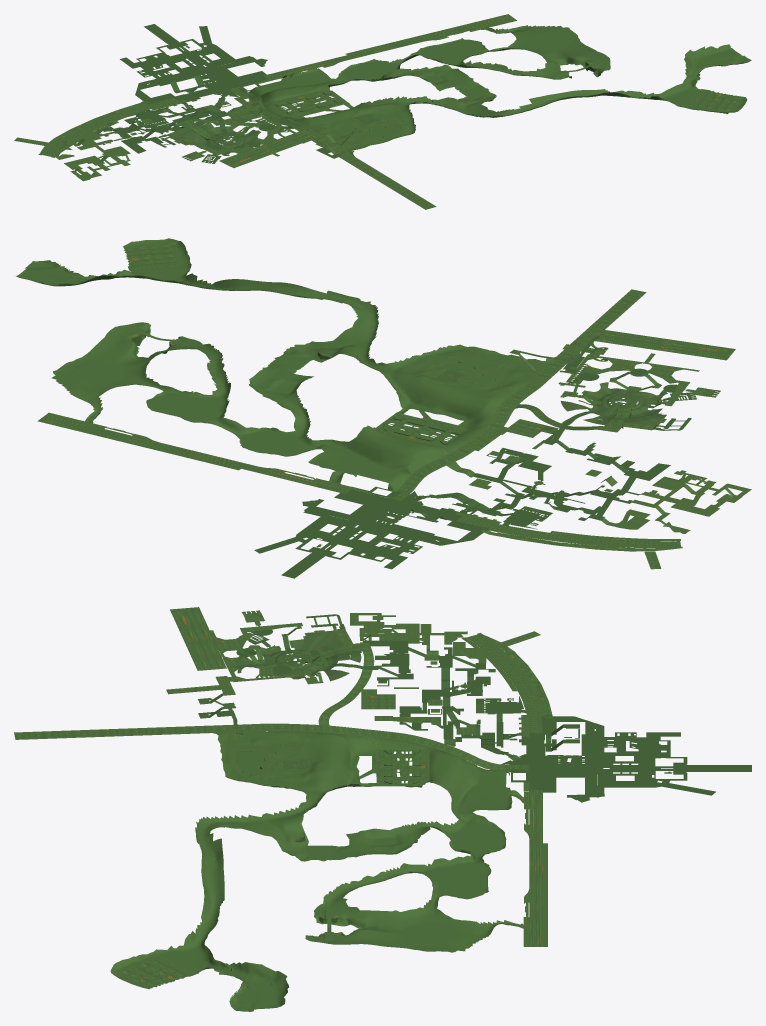
The model's file is sc_xcb_wg01_um.fbx.
3 views of the same model, one above another, from view 1: azimuth 30°, elevation 25°; view 2: azimuth 150°, elevation 25°; view 3: azimuth 270°, elevation 25° (orthographic). The views are drawn at different scales.
Parts seen in each view (by area): view 1: sc_xcb_wg002, sc_xcb_wg001, sc_xcb_wg_zt, sc_xcb_wg_tcc01, sc_xcb_wg_xxq01, sc_xcb_wg_ymc02, sc_xcb_wg005; view 2: sc_xcb_wg002, sc_xcb_wg001, sc_xcb_wg_zt, sc_xcb_wg_tcc01, sc_xcb_wg_xxq01, sc_xcb_wg_ymc02, sc_xcb_wg005, sc_xcb_wg_cdgc03; view 3: sc_xcb_wg002, sc_xcb_wg001, sc_xcb_wg_zt, sc_xcb_wg_tcc01, sc_xcb_wg_xxq01, sc_xcb_wg_ymc02, sc_xcb_wg_cdgc03.
Part boxes in pixels (x1,y1,x2,y2): sc_xcb_wg002: [248, 25, 751, 157]; sc_xcb_wg001: [14, 15, 514, 209]; sc_xcb_wg_zt: [55, 129, 130, 181]; sc_xcb_wg_tcc01: [263, 90, 348, 118]; sc_xcb_wg_xxq01: [336, 113, 405, 149]; sc_xcb_wg_ymc02: [697, 92, 743, 111]; sc_xcb_wg005: [345, 14, 509, 54]; sc_xcb_wg002: [16, 238, 557, 491]; sc_xcb_wg001: [40, 289, 735, 578]; sc_xcb_wg_zt: [600, 470, 751, 533]; sc_xcb_wg_tcc01: [376, 409, 489, 457]; sc_xcb_wg_xxq01: [436, 352, 544, 386]; sc_xcb_wg_ymc02: [123, 244, 177, 266]; sc_xcb_wg005: [37, 419, 240, 470]; sc_xcb_wg_cdgc03: [515, 404, 621, 432]; sc_xcb_wg002: [110, 731, 523, 1011]; sc_xcb_wg001: [14, 607, 751, 946]; sc_xcb_wg_zt: [350, 613, 486, 663]; sc_xcb_wg_tcc01: [356, 736, 441, 786]; sc_xcb_wg_xxq01: [227, 732, 309, 780]; sc_xcb_wg_ymc02: [121, 959, 185, 988]; sc_xcb_wg_cdgc03: [318, 643, 374, 725].
Bounding box in the file's own units: 84068 × 8995 × 65963.
